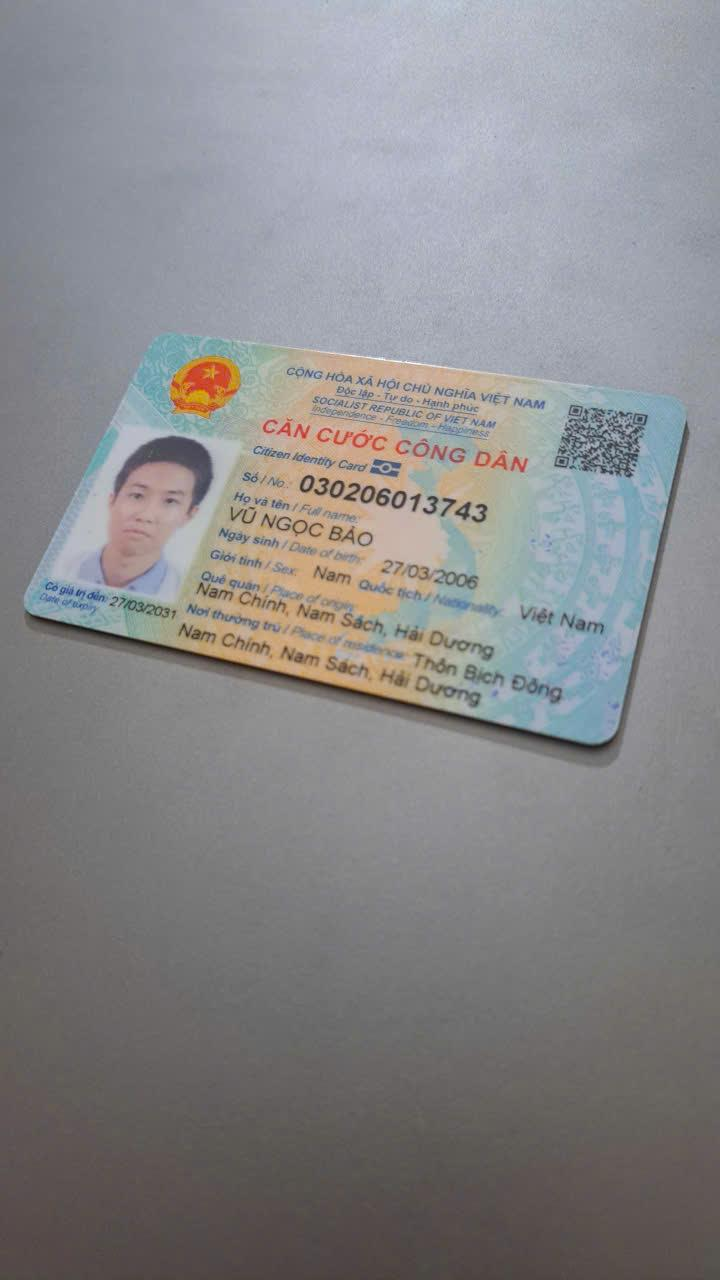cccd: (14, 323, 695, 768)
